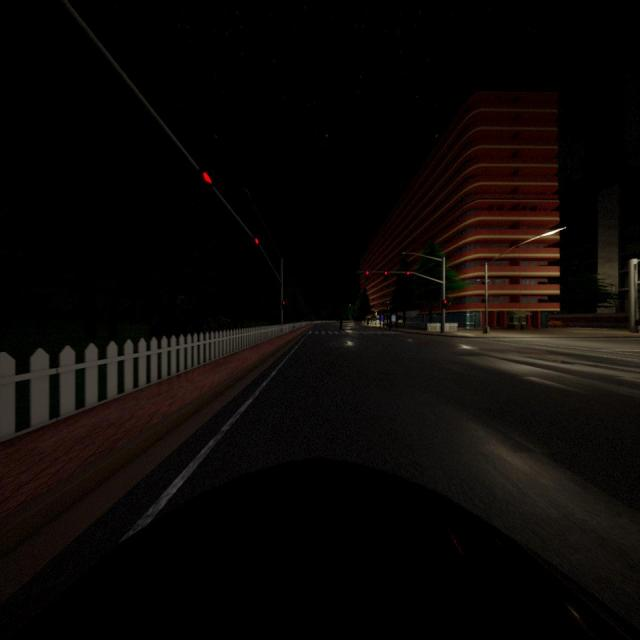Pedestrian: (337, 312, 345, 334)
Vehicle: (0, 460, 640, 640), (547, 316, 570, 328)
traffic_light: (202, 170, 213, 188), (442, 299, 447, 309), (384, 271, 388, 281), (406, 271, 410, 280), (254, 238, 259, 245), (282, 300, 285, 310), (366, 271, 368, 280)
